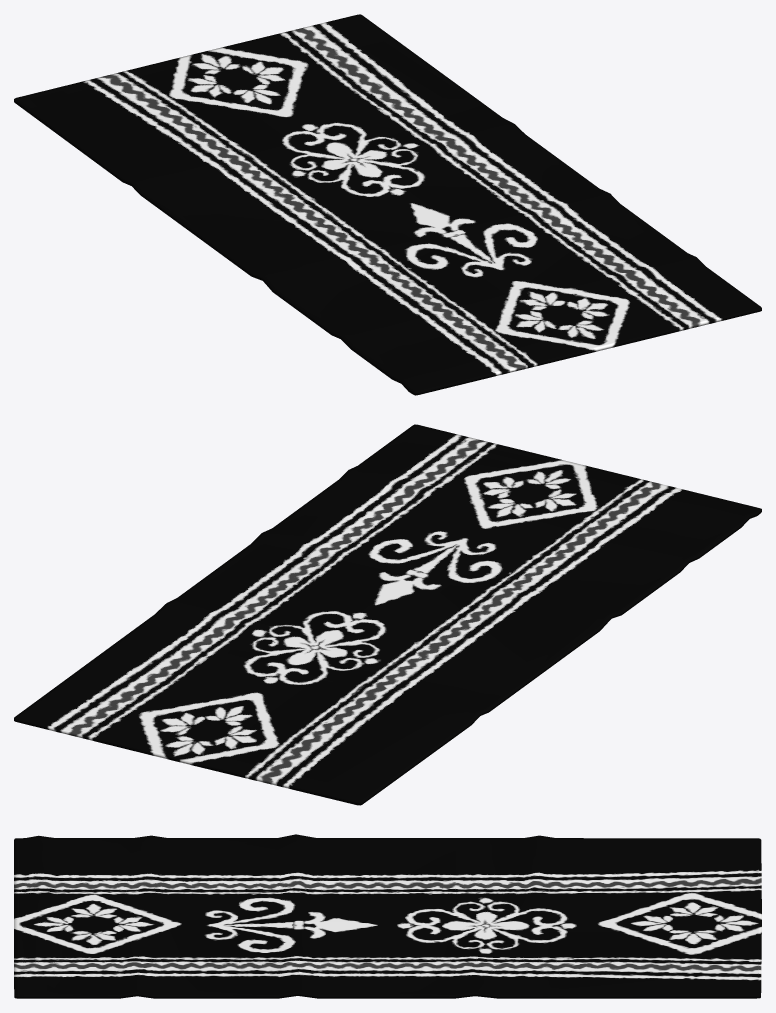
The model's file is SM_Carpet_B.fbx.
The picture shows the model from 3 angles, top to bottom: view 1: azimuth 30°, elevation 25°; view 2: azimuth 150°, elevation 25°; view 3: azimuth 270°, elevation 25°; orthographic projection. The views are drawn at different scales.
Parts seen in each view (by area): view 1: SM_Carpet_B_LOD0; view 2: SM_Carpet_B_LOD0; view 3: SM_Carpet_B_LOD0.
Boxes of the visible parts, x1,y1,x2,y2 form: SM_Carpet_B_LOD0: (14, 14, 761, 395); SM_Carpet_B_LOD0: (14, 424, 761, 805); SM_Carpet_B_LOD0: (14, 834, 761, 998).
Size of the model in its own units: 250 by 500 by 4.65.
